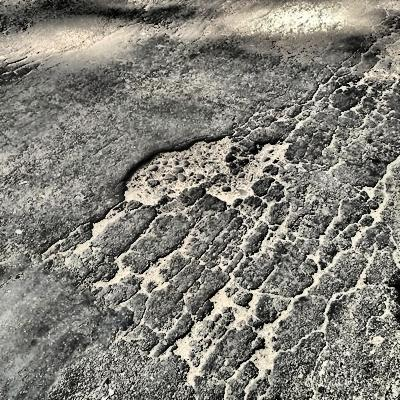pothole: (118, 133, 291, 210)
